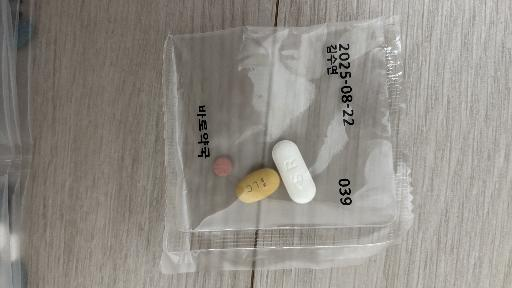Lecox: (236, 168, 280, 203)
Polybutine: (272, 140, 316, 203)
vinyl: (161, 16, 413, 273)
